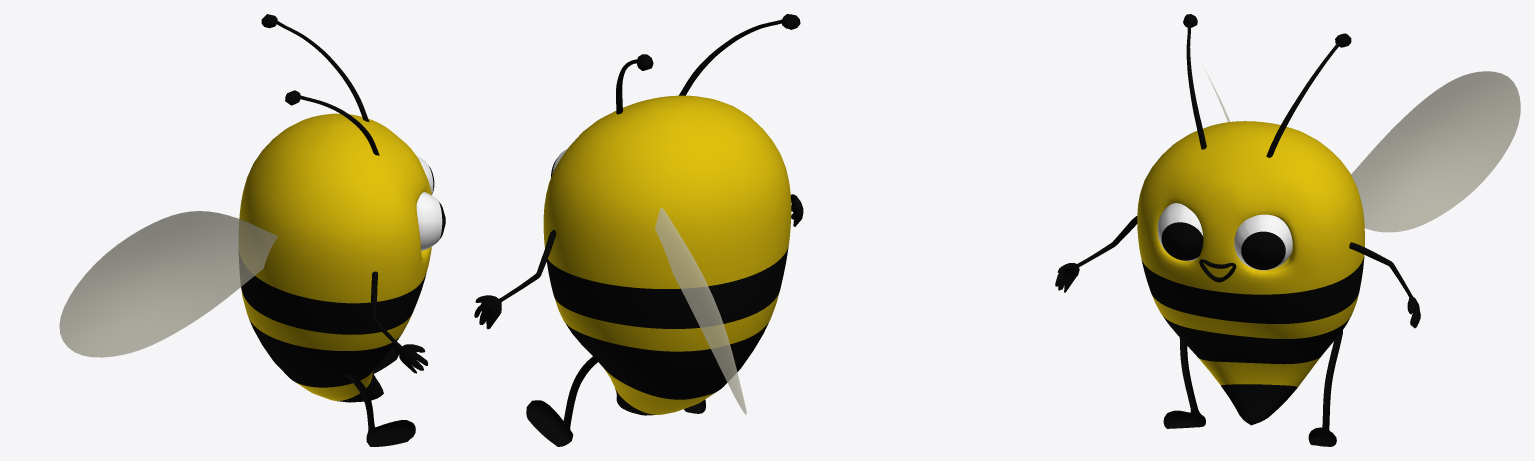
Rendered from Beekaboo.glb.
3 renders of one model, left to right at view 1: azimuth 30°, elevation 25°; view 2: azimuth 150°, elevation 25°; view 3: azimuth 270°, elevation 25°, orthographic. The views are drawn at different scales.
Size of the model in its own units: 60.82 by 56.38 by 62.55.
